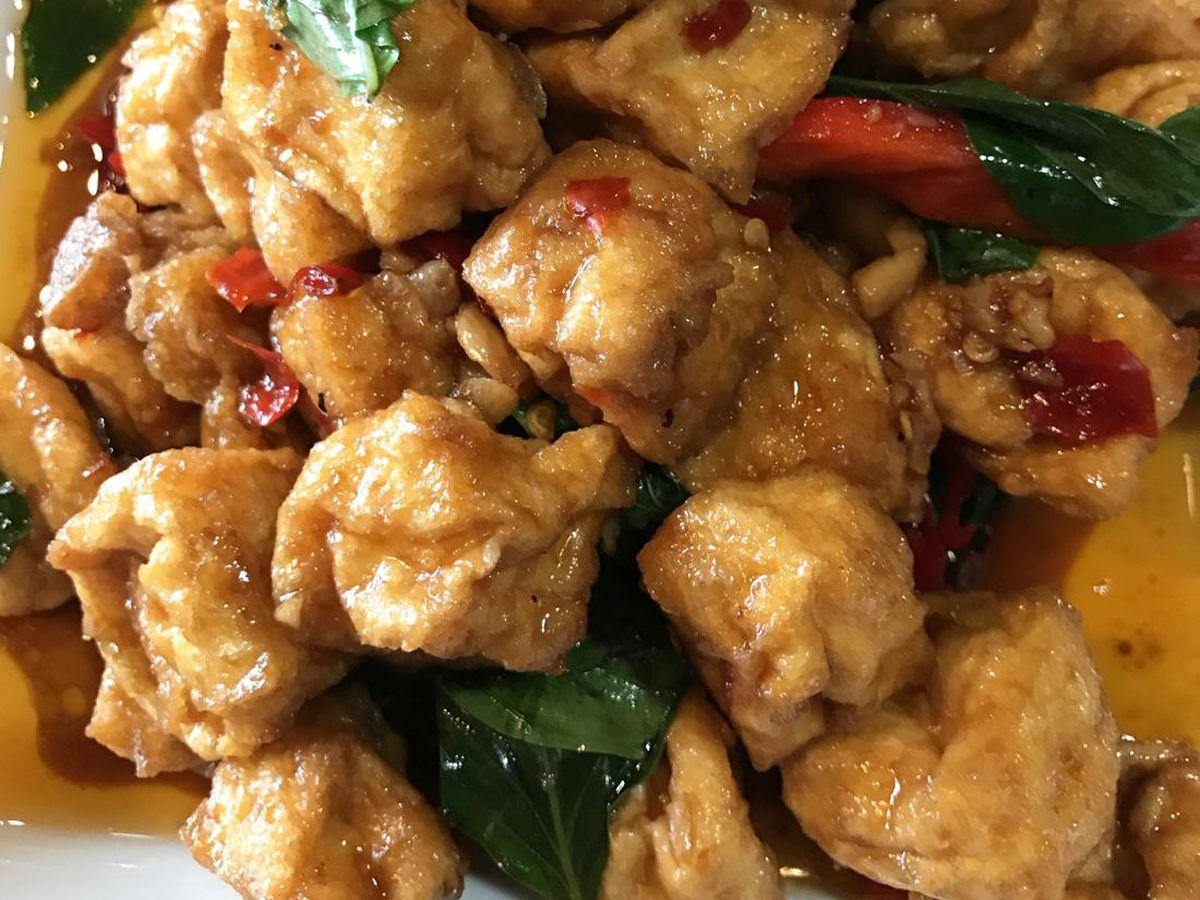kacang_legume: (122, 55, 713, 621)
